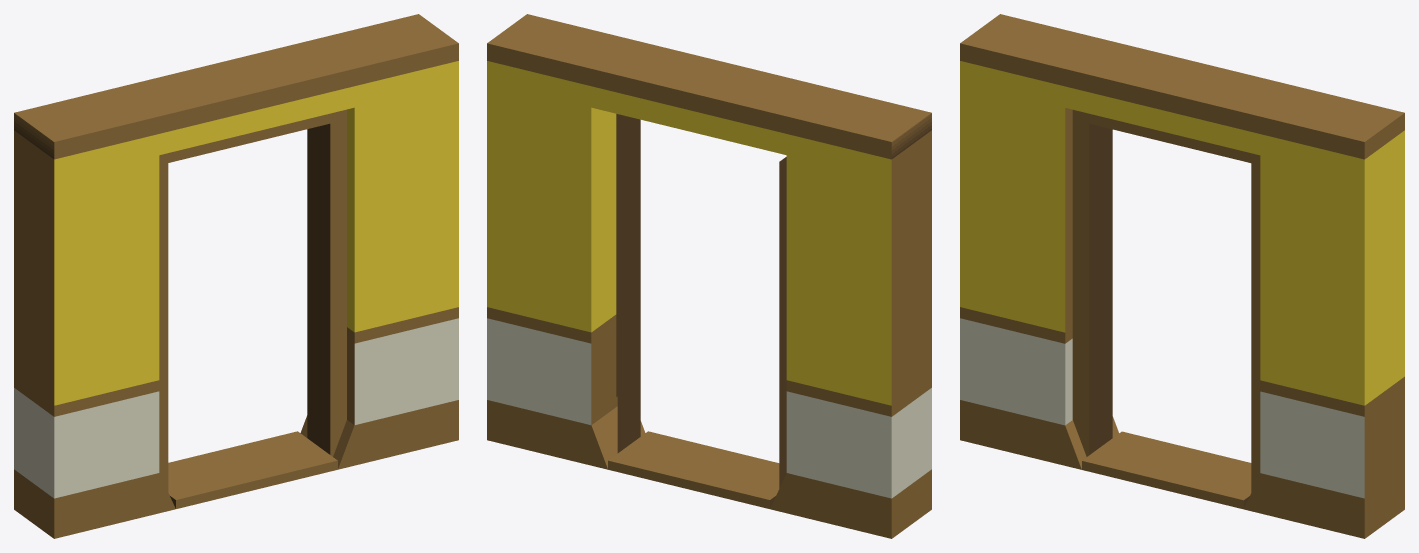
The model's file is Wall_Door_02_Yellow.fbx.
The picture shows the model from 3 angles, left to right: view 1: azimuth 30°, elevation 25°; view 2: azimuth 150°, elevation 25°; view 3: azimuth 330°, elevation 25°; orthographic projection.
Visible parts, largest first — view 1: Wall_Door_02_Yellow2; view 2: Wall_Door_02_Yellow2; view 3: Wall_Door_02_Yellow2.
Boxes of the visible parts, left/top/right/bottom form: Wall_Door_02_Yellow2: left=14, top=14, right=458, bottom=538; Wall_Door_02_Yellow2: left=487, top=14, right=931, bottom=538; Wall_Door_02_Yellow2: left=960, top=14, right=1404, bottom=538.
Bounding box in the file's own units: 0.05 × 0.0469 × 0.00858.
Materials: 1 (1 with a texture image).
